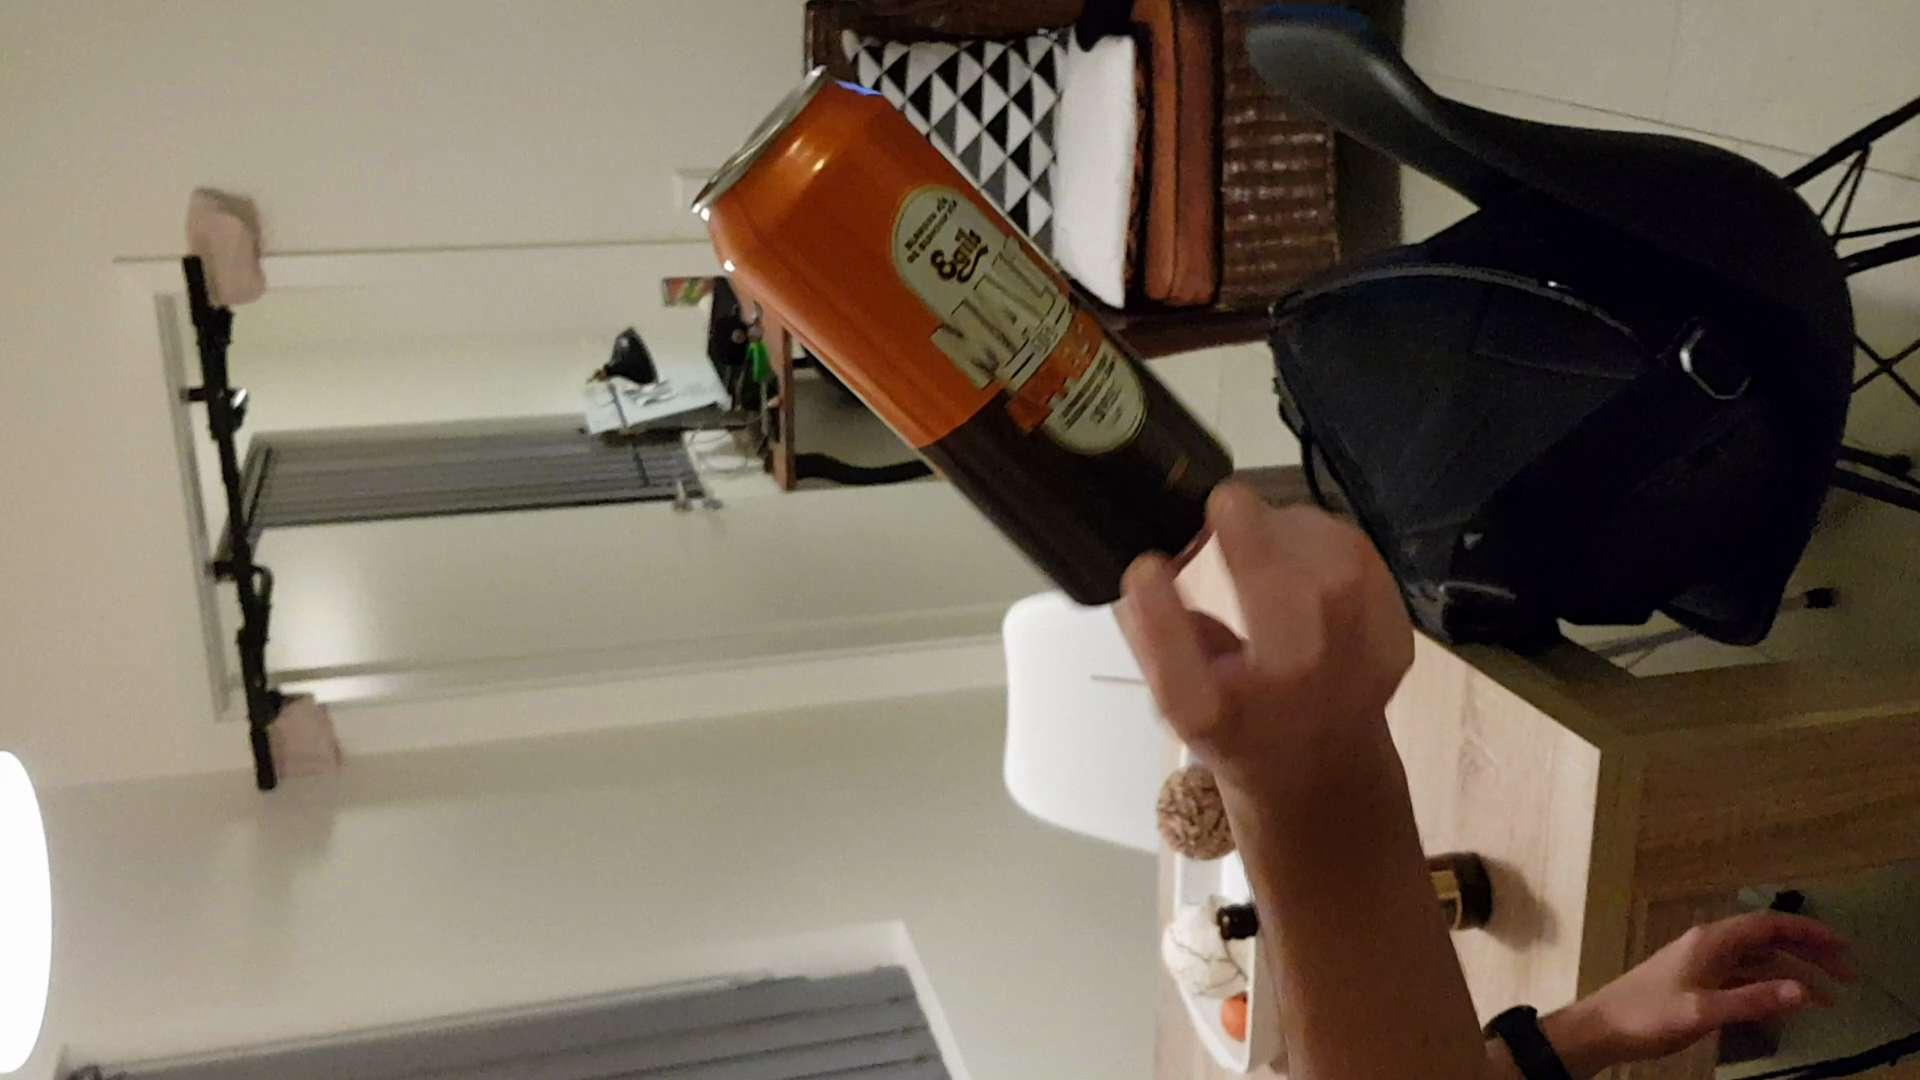Can: (676, 65, 1237, 616)
